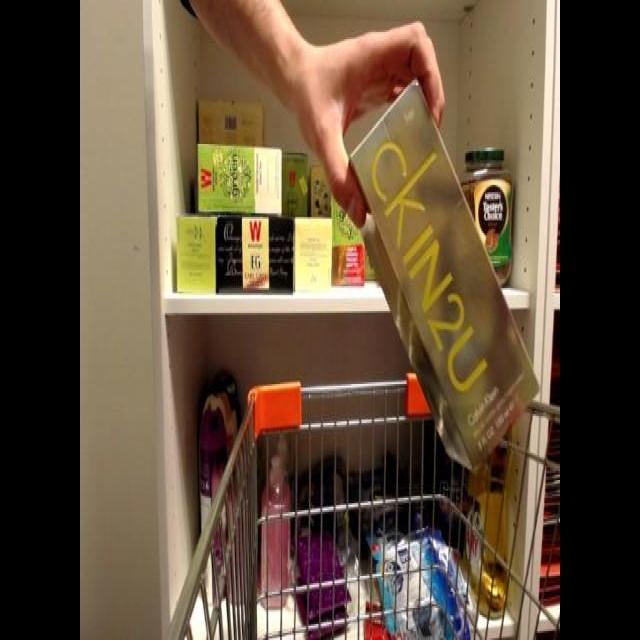Calvin Klein: (332, 78, 545, 475)
